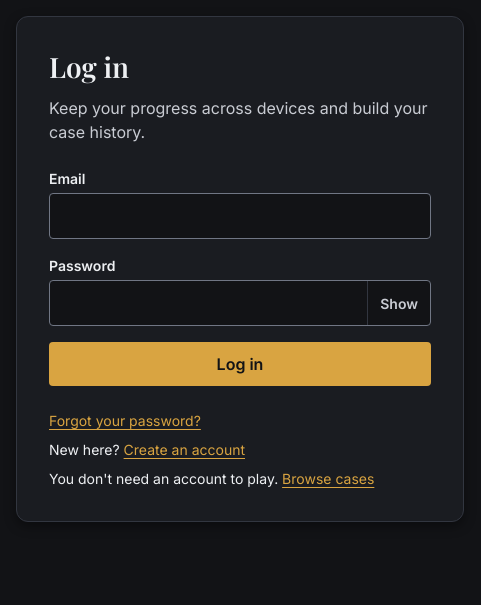
Test: login view › shows the server message for wrong credentials
In the field labelled "Email": (240, 216) [50, 194, 430, 238], type "sam@example.com"
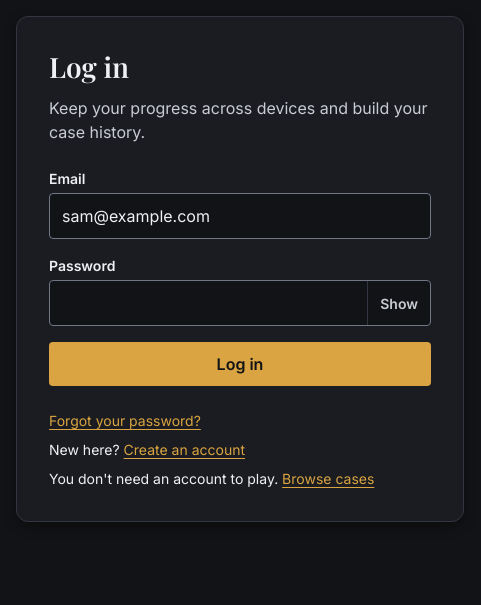
In the password field labelled "Password": (209, 303) [50, 281, 367, 325], type "wrong"
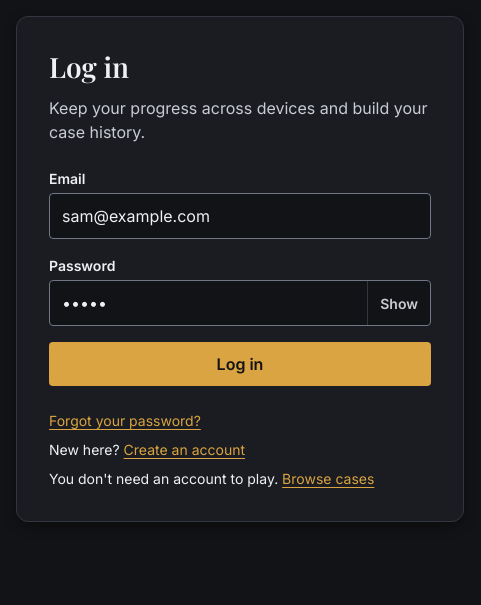
Submit the form, box [49, 168, 431, 386]
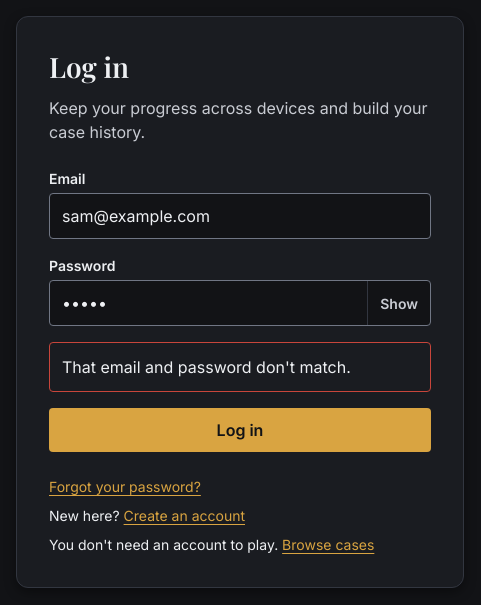
Expected: the message "That email and password don't match." is shown, [49, 342, 431, 392]
